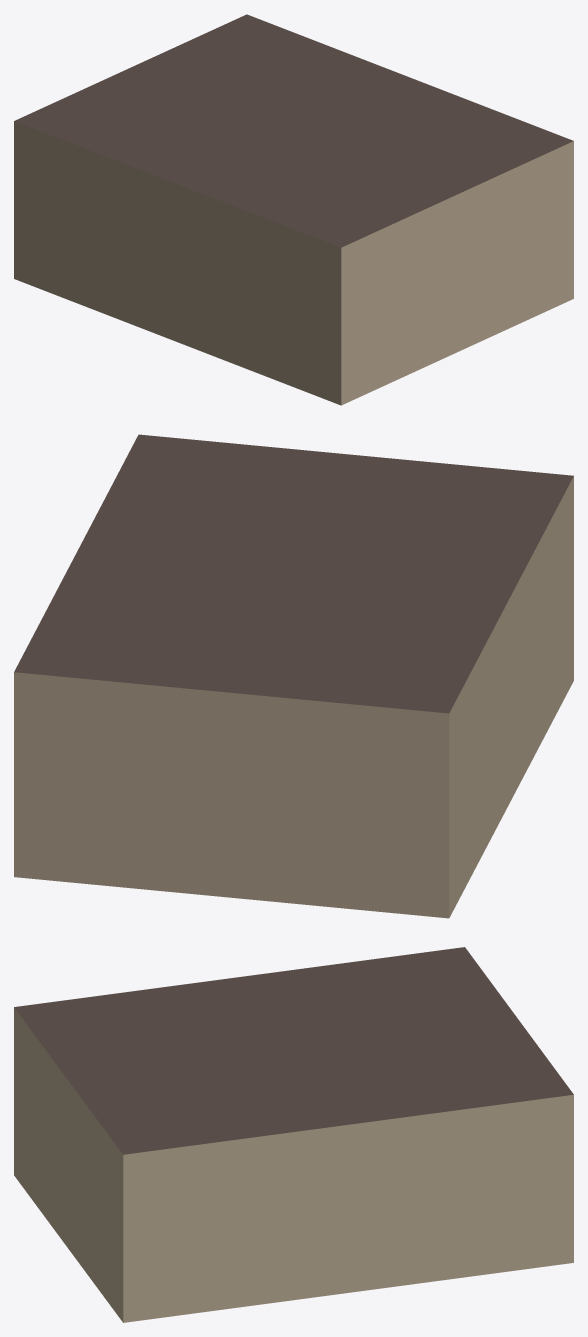
The picture shows the model from 3 angles, top to bottom: view 1: azimuth 30°, elevation 25°; view 2: azimuth 150°, elevation 25°; view 3: azimuth 270°, elevation 25°; orthographic projection. The views are drawn at different scales.
Visible parts, largest first — view 1: HP-w859488931; view 2: HP-w859488931; view 3: HP-w859488931.
Boxes of the visible parts, x1,y1,x2,y2 form: HP-w859488931: (14, 14, 573, 405); HP-w859488931: (14, 434, 573, 918); HP-w859488931: (14, 947, 573, 1322).
Size of the model in its own units: 23.85 by 9 by 27.16.
